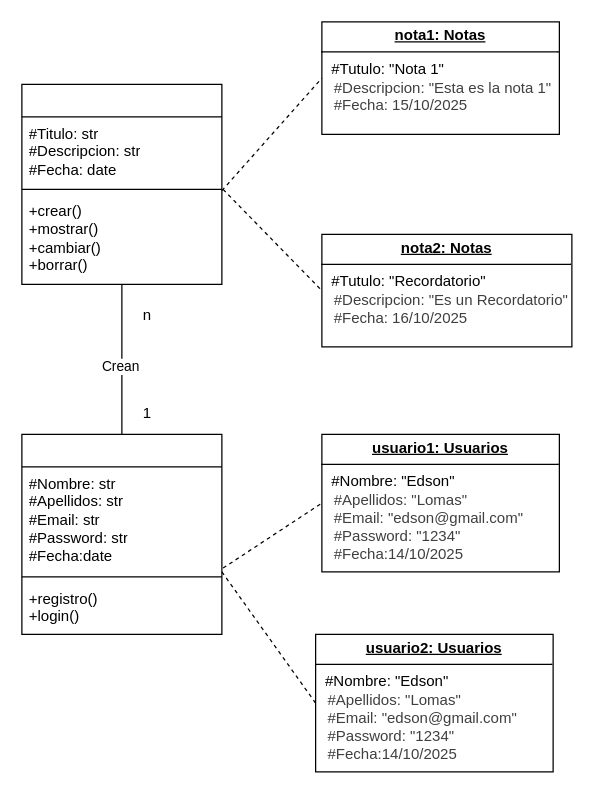
Image size: 594x794. Some labels were removed from this diagram. The shapes that lost their labels are listed below. From the top down, each one's box as (x1, y1, x2, y2) in pixels, then its label:
(21, 83, 222, 284): Notas
(21, 433, 222, 634): Usuarios
